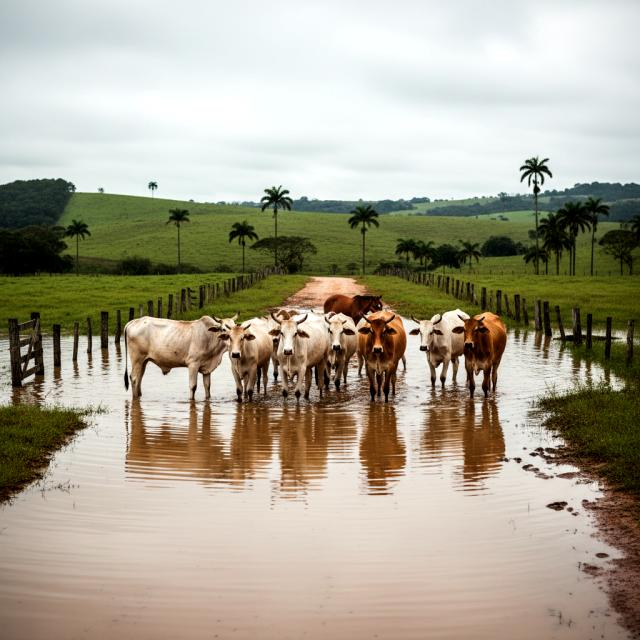cow: (115, 306, 244, 409), (352, 306, 412, 407), (268, 310, 329, 407), (217, 315, 278, 407), (410, 308, 470, 400), (450, 309, 508, 400), (320, 307, 359, 398), (262, 311, 298, 391)
horse: (320, 291, 388, 320)
